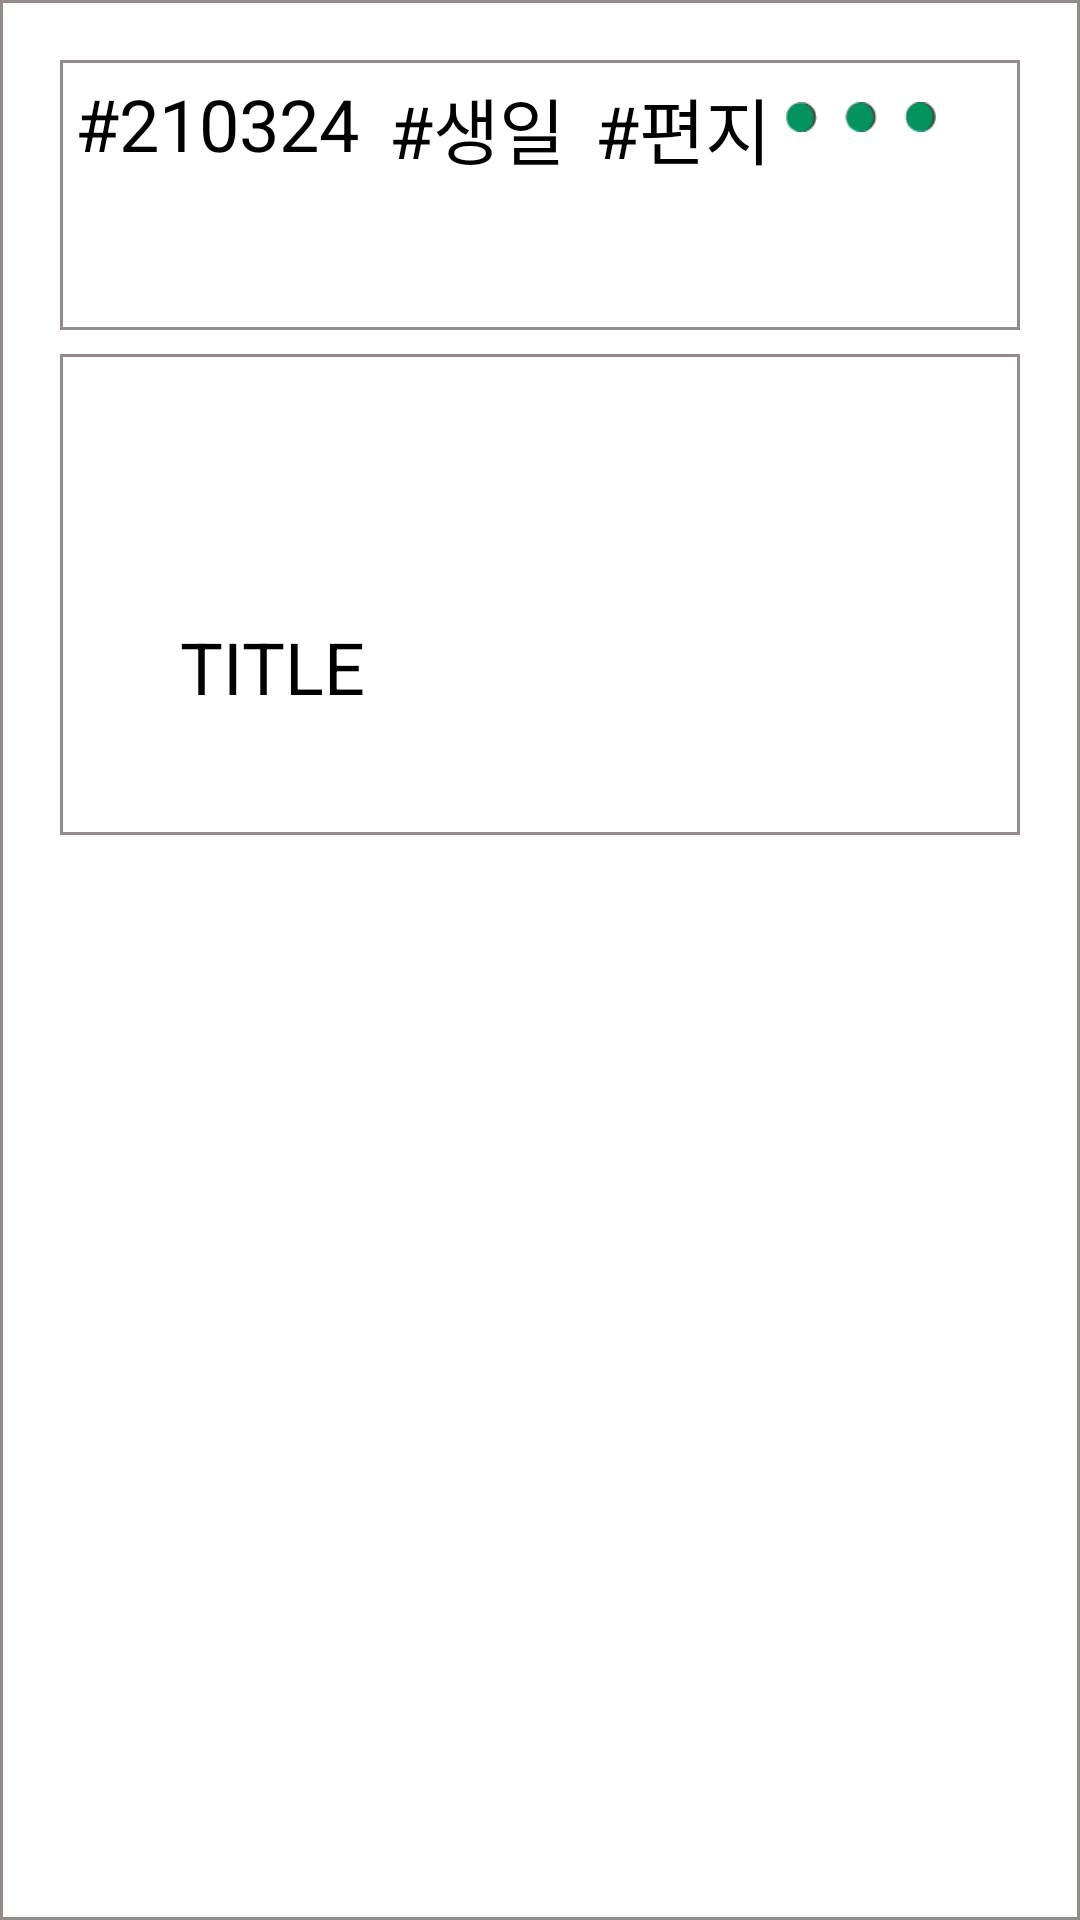

Icon bounding boxes for this 1080*1920 phone screenshot, format (x1, y1, x2, y2):
menu: (786, 102, 936, 132)
